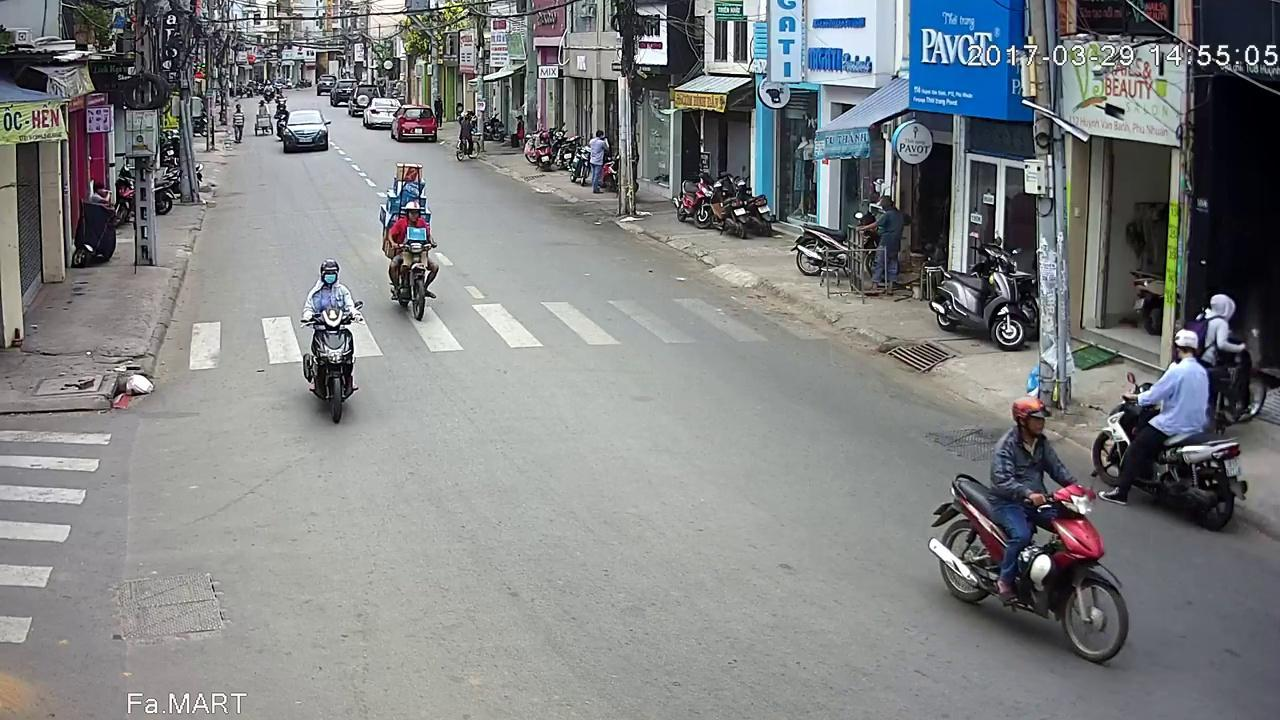xe dap: (452, 109, 479, 162)
xe hoi: (392, 101, 440, 143), (285, 110, 328, 152), (363, 95, 402, 127)
xe may: (934, 395, 1133, 663), (1095, 327, 1252, 532), (298, 254, 364, 422), (383, 200, 443, 322)
